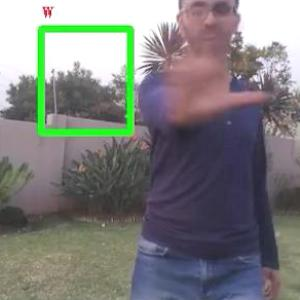follow_hand: (146, 3, 274, 127)
